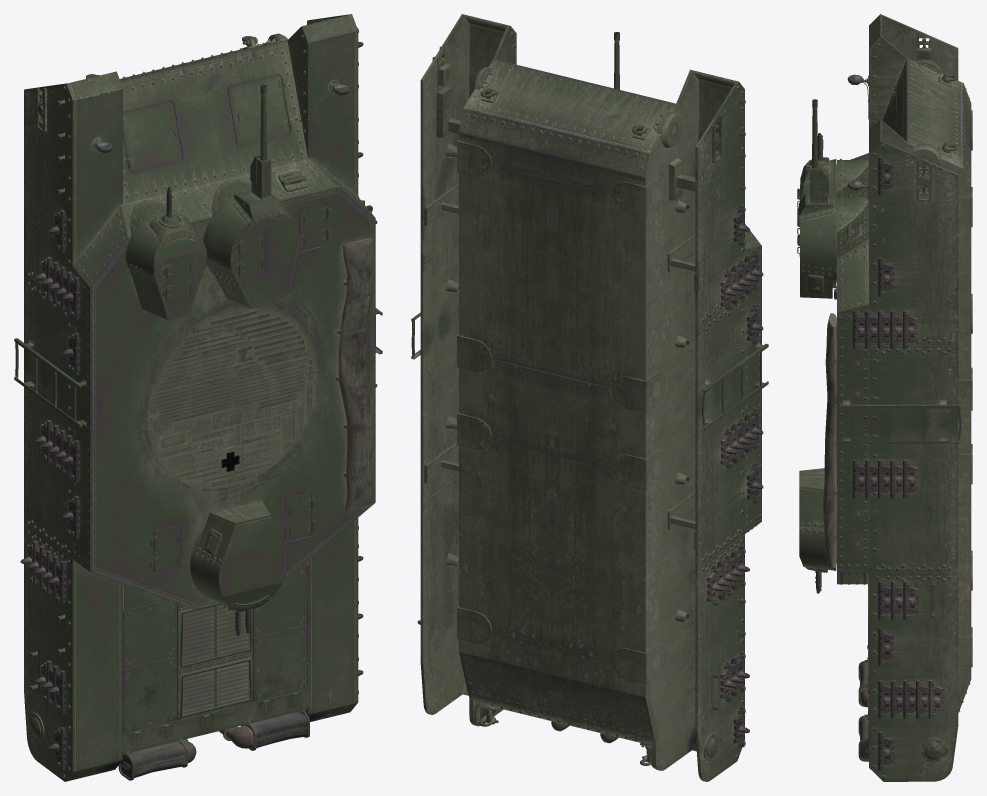
File: Hull.glb
The picture shows the model from 3 angles, left to right: view 1: azimuth 30°, elevation 25°; view 2: azimuth 150°, elevation 25°; view 3: azimuth 270°, elevation 25°; orthographic projection. The views are drawn at different scales.
Parts seen in each view (by area): view 1: set_0_group_0, set_0_group_1; view 2: set_0_group_0, set_0_group_1; view 3: set_0_group_0, set_0_group_1.
Boxes of the visible parts, left/top/right/bottom form: set_0_group_0: left=14, top=14, right=382, bottom=781; set_0_group_1: left=20, top=27, right=377, bottom=769; set_0_group_0: left=411, top=14, right=768, bottom=781; set_0_group_1: left=417, top=99, right=763, bottom=747; set_0_group_0: left=797, top=14, right=972, bottom=781; set_0_group_1: left=853, top=156, right=943, bottom=770.
Size of the model in its own units: 4.52 by 9.68 by 2.39.
2 materials, 2 textured.
